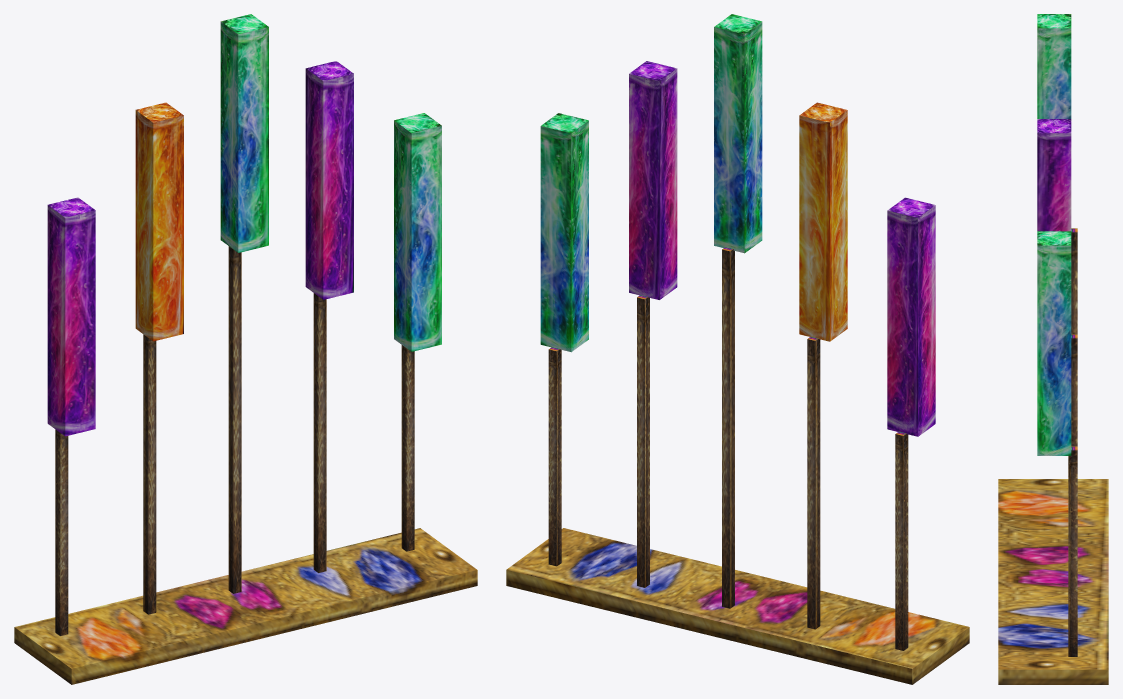
The model's file is mm9_deco_vials.glb.
The picture shows the model from 3 angles, left to right: view 1: azimuth 30°, elevation 25°; view 2: azimuth 150°, elevation 25°; view 3: azimuth 270°, elevation 25°; orthographic projection. The views are drawn at different scales.
Visible parts, largest first — view 1: Vials; view 2: Vials; view 3: Vials.
Part boxes in pixels (left/top/right/bottom): Vials: left=14, top=14, right=477, bottom=684; Vials: left=506, top=14, right=969, bottom=684; Vials: left=998, top=14, right=1108, bottom=684.
Bounding box in the file's own units: 0.6724 × 0.9343 × 0.1641.
1 material, 1 textured.
